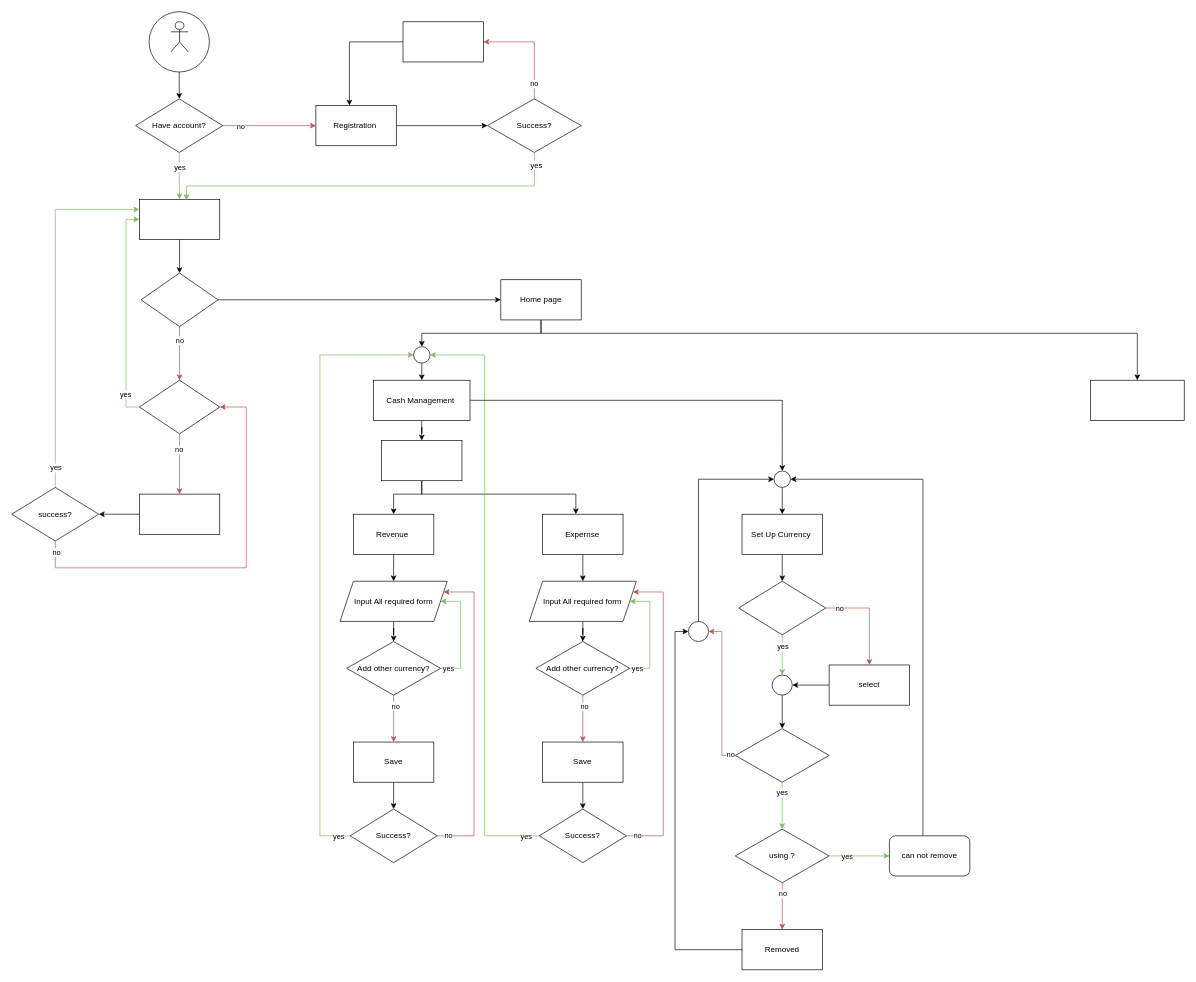
This 1196x982 diagram has some shape labels left out. Each missing label, with the centre of its shape:
Actor: point 179,36
Forgot password: point 179,513
Login: point 179,219
Remove ?: point 782,755
Select Currency: point 421,460
Selected ?: point 782,608
Set Exchange Rate: point 1137,400
Success ?: point 179,299
Try again: point 442,41
Try again ?: point 179,407
